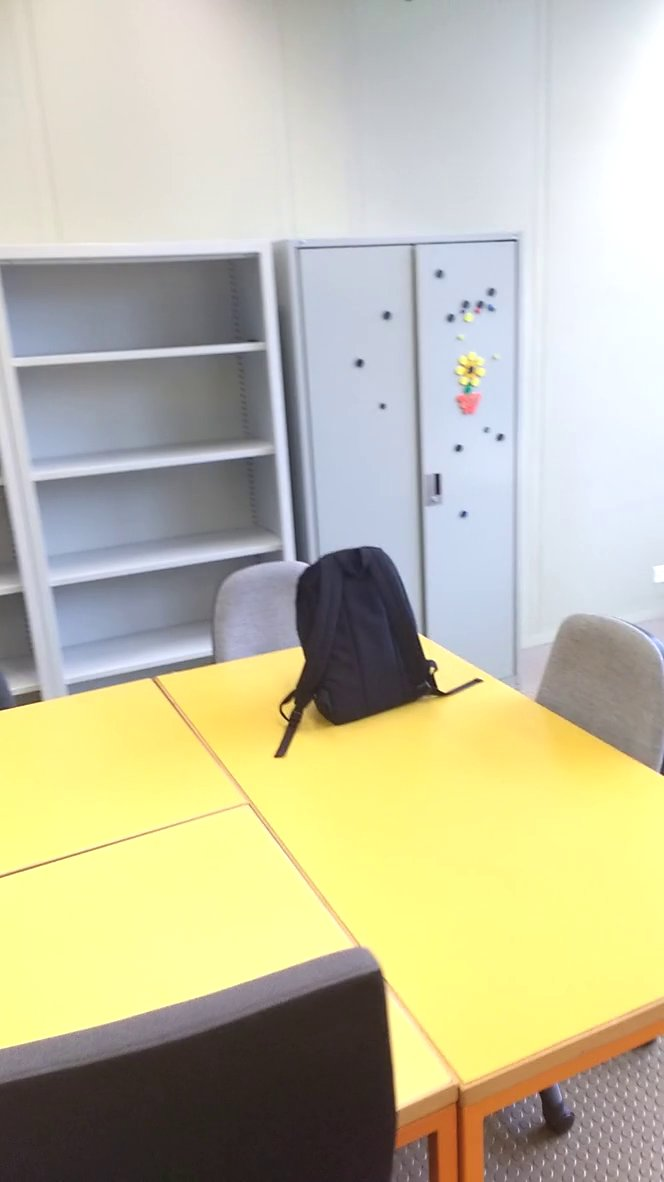bag: (270, 540, 492, 764)
chair: (520, 594, 664, 789), (180, 552, 334, 669)
